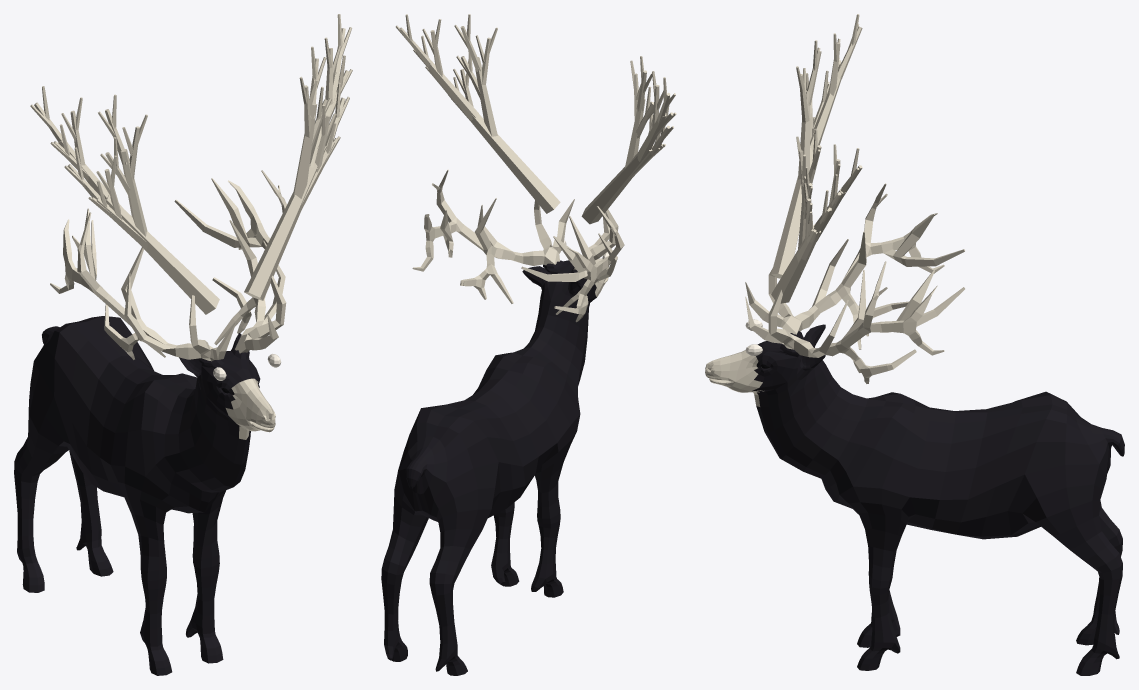
Rendered from HollowStag.fbx.
3 views of the same model, side by side, from view 1: azimuth 30°, elevation 25°; view 2: azimuth 150°, elevation 25°; view 3: azimuth 270°, elevation 25° (orthographic). The views are drawn at different scales.
Visible parts, largest first — view 1: Body, Deco_Antlers, Head, LegBL, LegFL, LegFR, LegBR, Tail1; view 2: Body, Deco_Antlers, LegBL, Tail1, LegBR, LegFL, Head, LegFR; view 3: Body, LegBR, Head, Deco_Antlers, LegFR, Tail1, LegBL.
Boxes of the visible parts, box(x1,y1,x2,y2) form: Body: box(33, 170, 286, 494); Deco_Antlers: box(30, 14, 352, 314); Head: box(175, 275, 286, 492); LegBL: box(14, 383, 123, 592); LegFL: box(111, 465, 210, 675); LegFR: box(186, 490, 225, 663); LegBR: box(69, 451, 113, 576); Tail1: box(30, 326, 59, 393); Body: box(410, 169, 624, 488); Deco_Antlers: box(395, 14, 676, 224); LegBL: box(423, 434, 556, 675); Tail1: box(395, 422, 477, 514); LegBR: box(381, 477, 437, 661); LegFL: box(531, 414, 580, 597); Head: box(533, 199, 618, 378); LegFR: box(491, 502, 519, 586); Body: box(801, 183, 1067, 499); LegBR: box(906, 468, 1122, 675); Head: box(705, 268, 821, 471); Deco_Antlers: box(771, 14, 862, 303); LegFR: box(821, 475, 915, 670); Tail1: box(1065, 402, 1124, 489); LegBL: box(1076, 500, 1122, 645).
Size of the model in its own units: 5.34 by 9.83 by 6.5.
2 materials, 1 textured.
